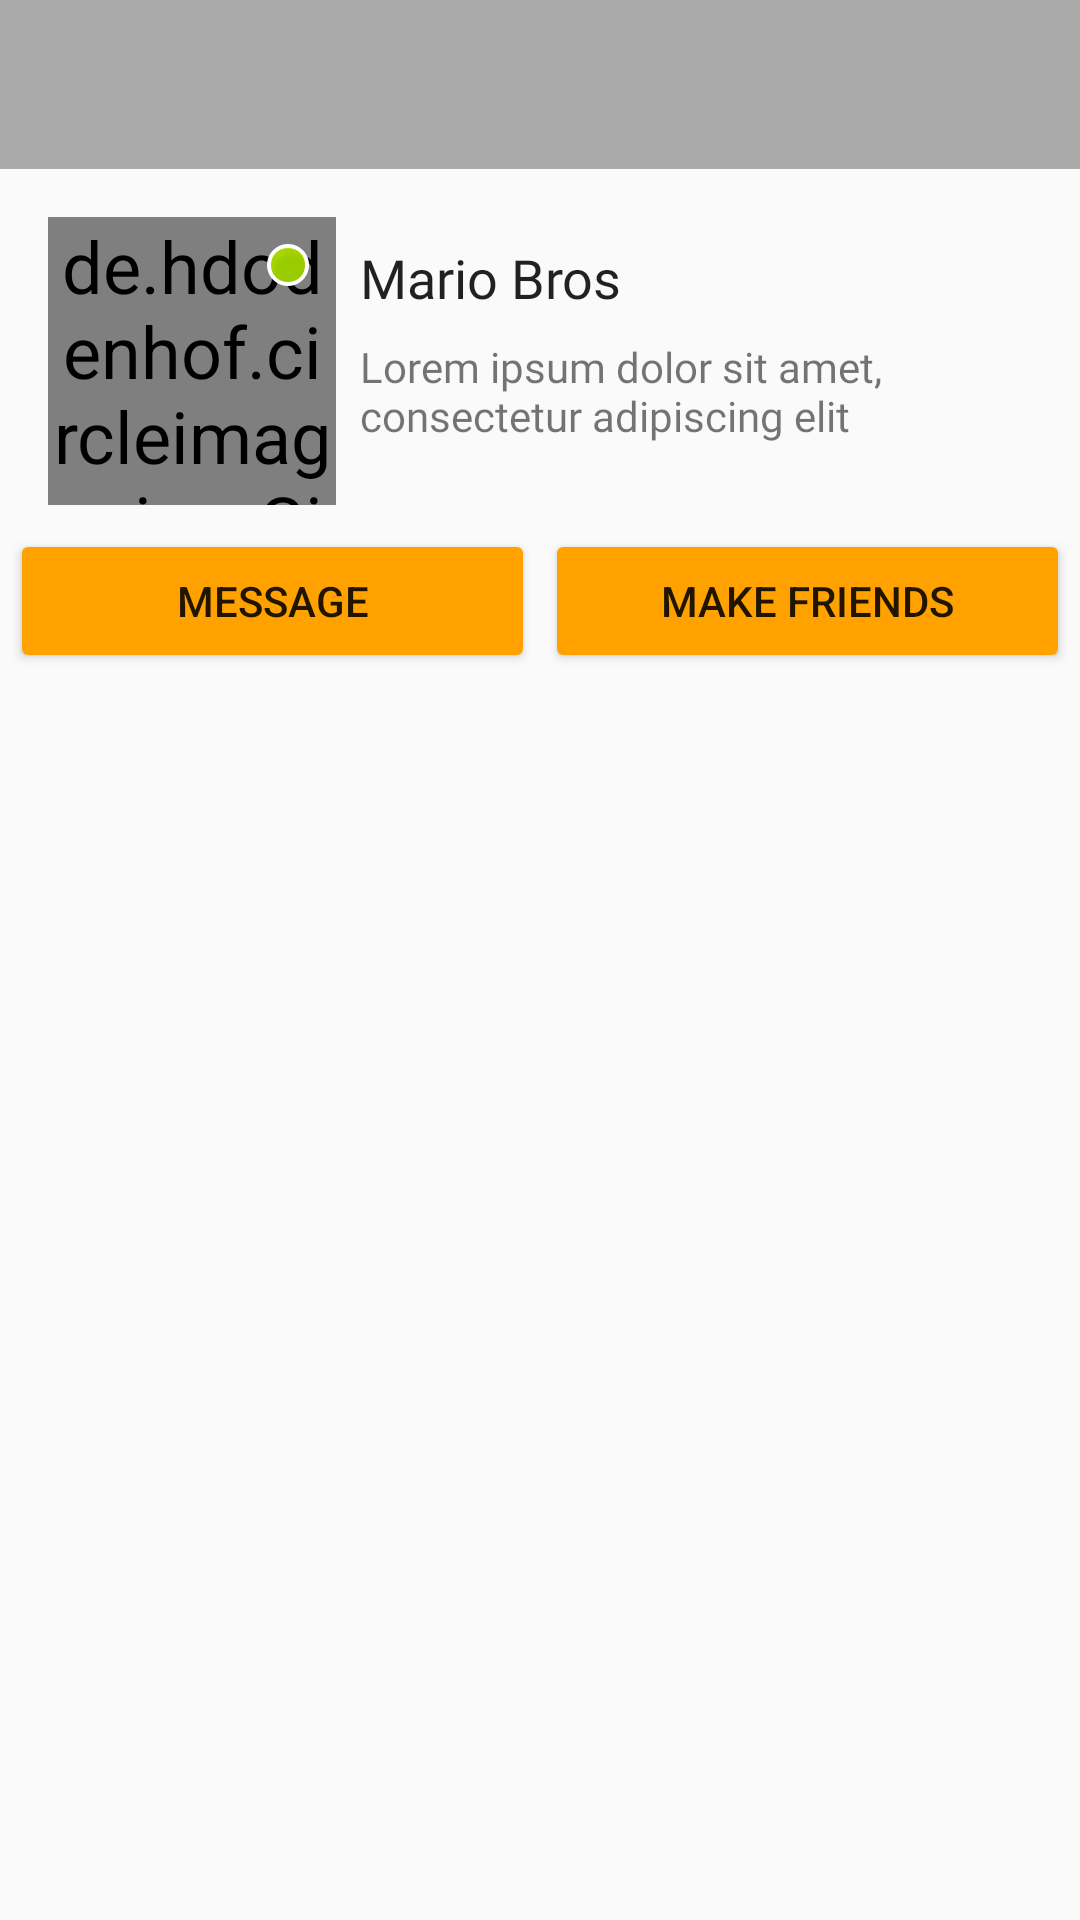

Icon click points for this 1080px x 1920px phone screenshot, format [x,y]:
presence online: [288,265]
